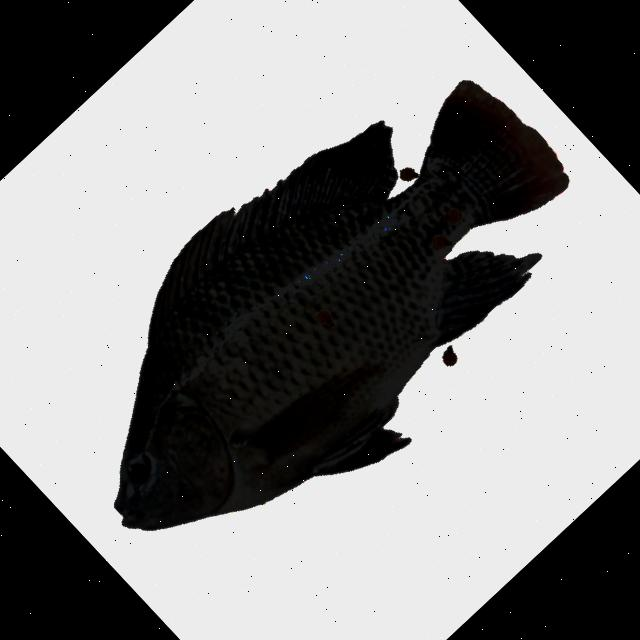Parasitic Disease: (116, 82, 567, 529)
